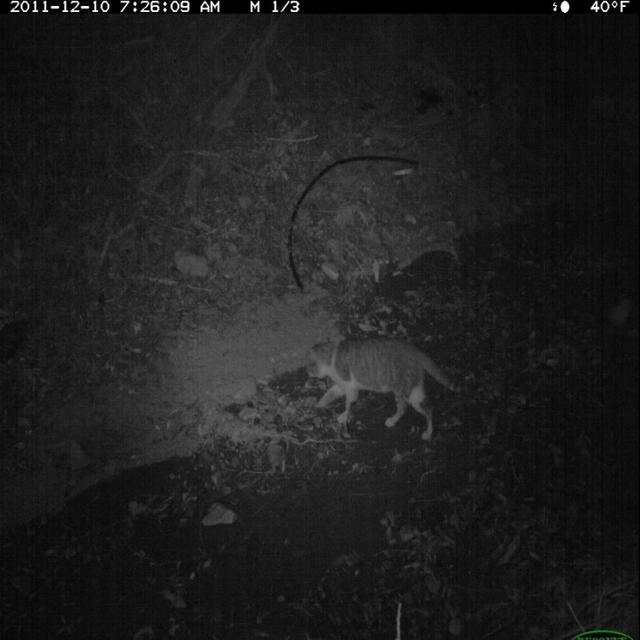cat: (283, 324, 464, 448)
